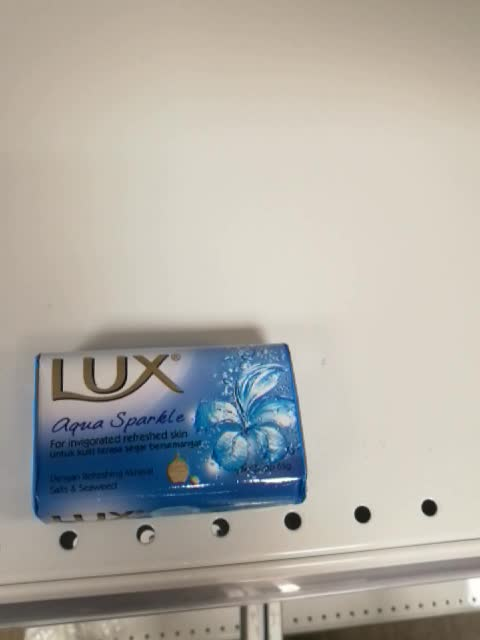soap: (30, 341, 309, 520)
